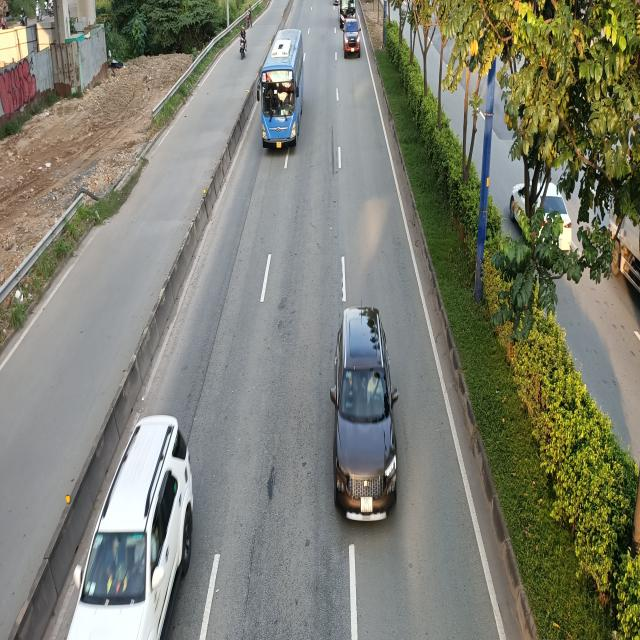car: (65, 415, 192, 640), (330, 307, 399, 522), (342, 15, 361, 60)
coach: (257, 28, 307, 148)
